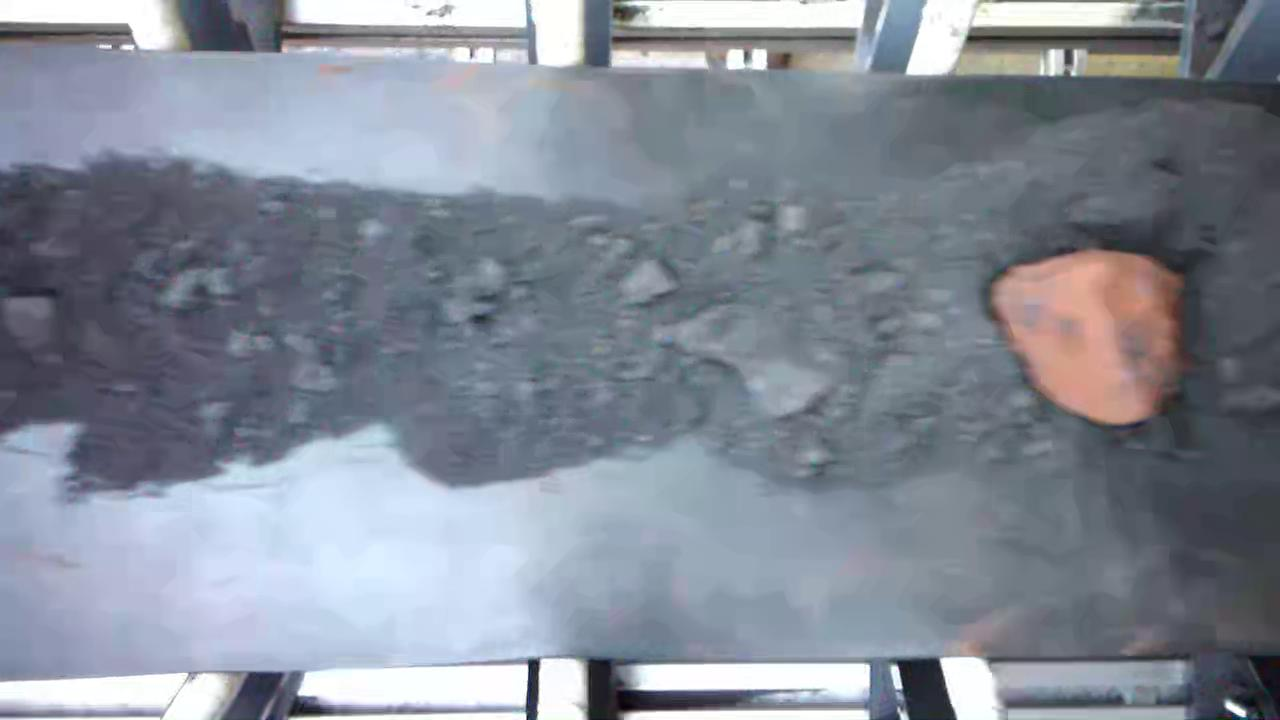conveyor: (8, 84, 1272, 636)
